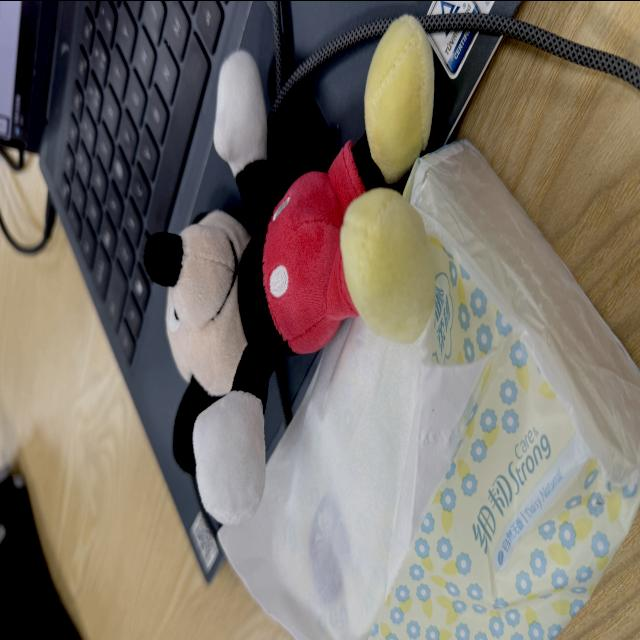mickey: (145, 16, 433, 522)
tissue: (221, 140, 640, 638)
